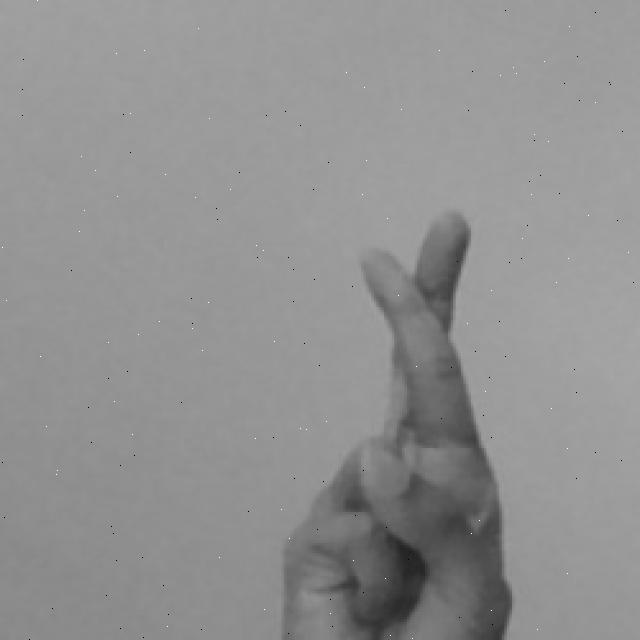R: (277, 205, 519, 640)
